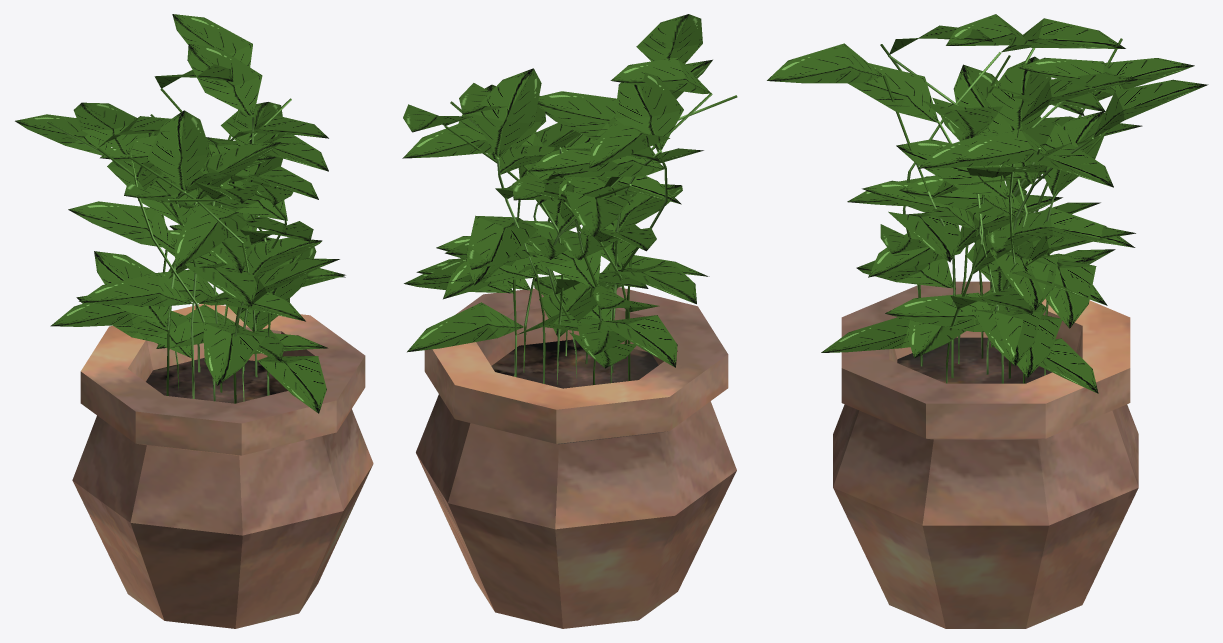
The model's file is PottedPlant.fbx.
3 views of the same model, side by side, from view 1: azimuth 30°, elevation 25°; view 2: azimuth 150°, elevation 25°; view 3: azimuth 270°, elevation 25° (orthographic). The views are drawn at different scales.
Parts seen in each view (by area): view 1: PottedPlant; view 2: PottedPlant; view 3: PottedPlant.
Boxes of the visible parts, x1=… form: PottedPlant: x1=15, y1=14, x2=373, y2=628; PottedPlant: x1=402, y1=14, x2=737, y2=628; PottedPlant: x1=767, y1=14, x2=1208, y2=628.
Size of the model in its own units: 76.68 by 130 by 97.7.
2 materials, 2 textured.
